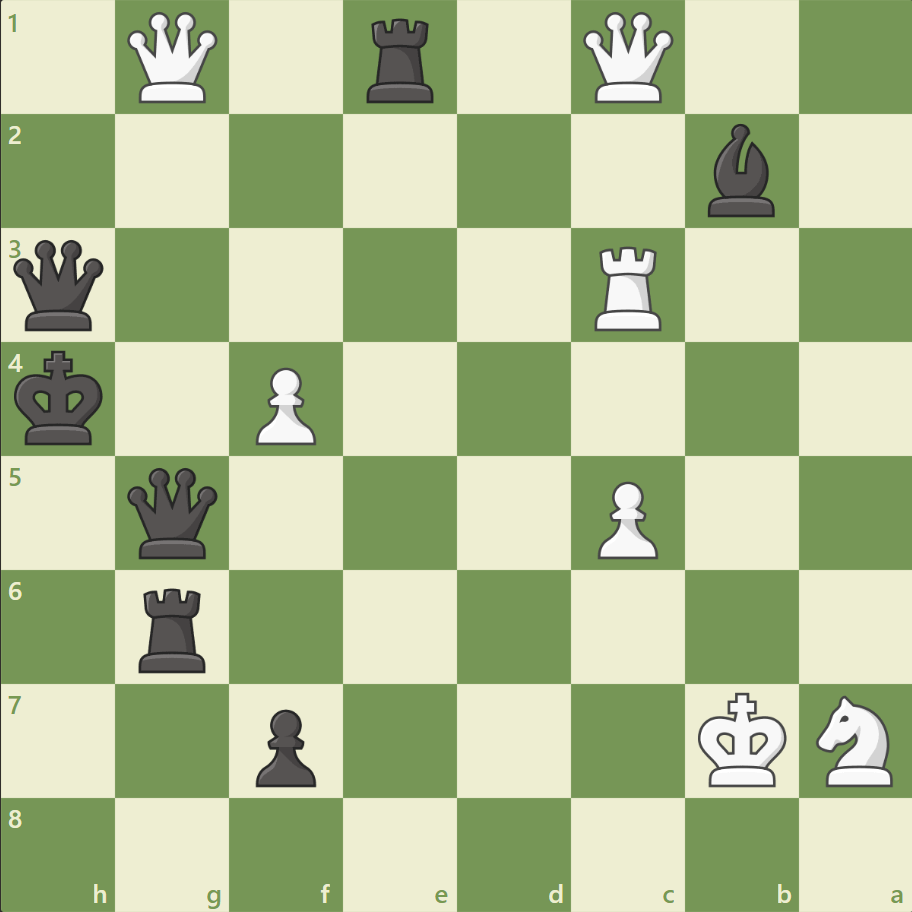K: (692, 685, 792, 793)
N: (806, 688, 903, 791)
P: (247, 359, 322, 450), (588, 473, 662, 564)
Q: (578, 9, 677, 108), (124, 9, 223, 108)
R: (587, 239, 670, 336)
b: (698, 120, 782, 222)
k: (11, 344, 111, 452)
p: (247, 700, 322, 791)
q: (124, 463, 223, 562), (10, 236, 109, 335)
r: (133, 579, 215, 676), (360, 12, 442, 109)
